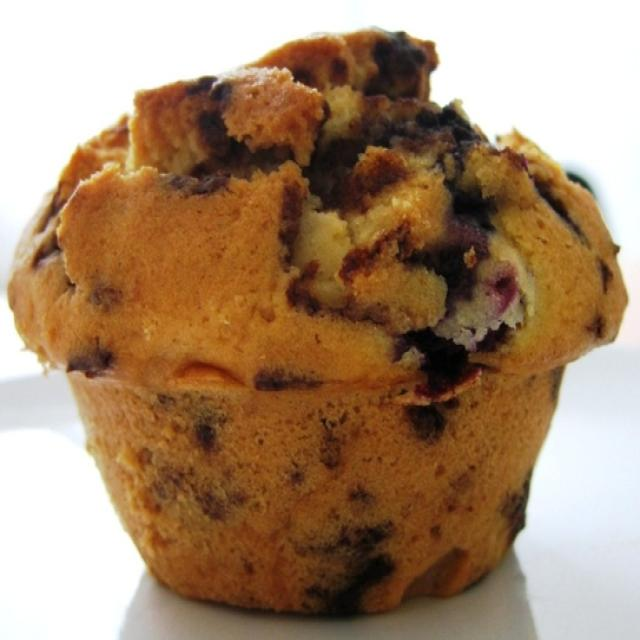炸货点心: (1, 18, 627, 621)
面包点心: (1, 18, 627, 621)
